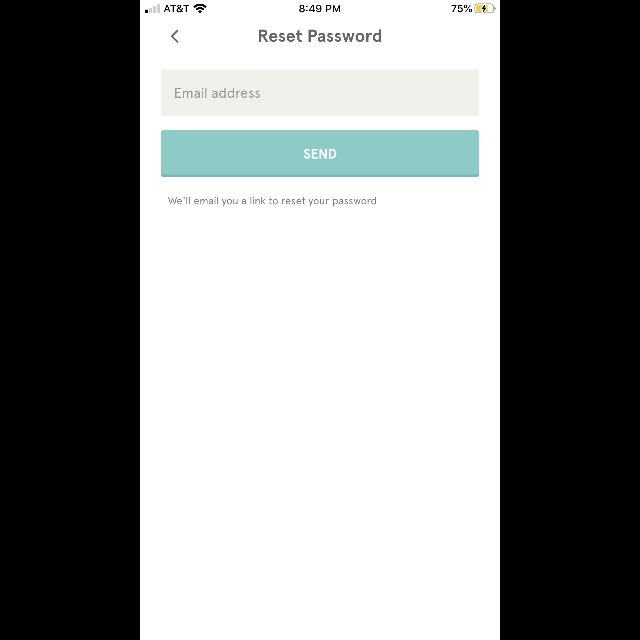icon: (172, 31, 178, 44)
input: (162, 70, 478, 116)
text: (168, 197, 376, 207), (259, 30, 381, 42), (176, 88, 260, 98)
textbutton: (162, 131, 478, 177)
uppertaskbar: (140, 0, 500, 14)
